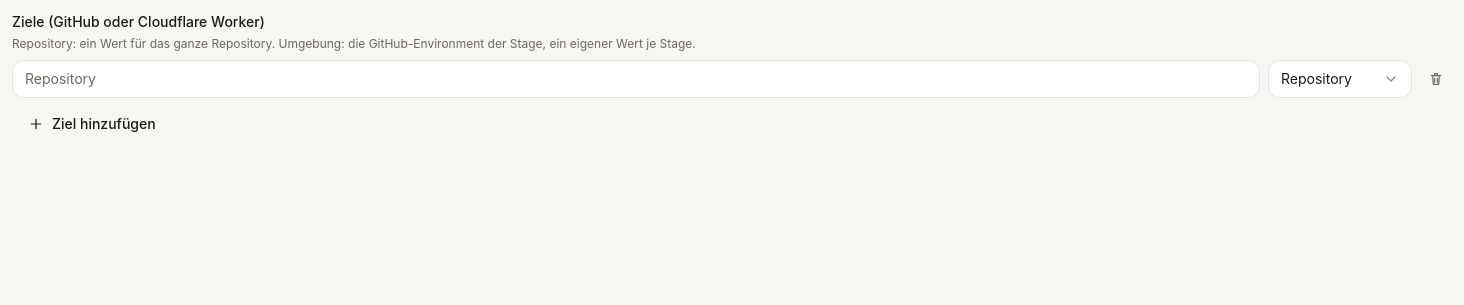
Test: PlacesEditor Worker rows › offers the Worker scope when allowed, with the mixed legend and hint
Check: the text "Ziele (GitHub oder Cloudflare Worker)" is shown, box [12, 12, 265, 32]
Click the dropdown named "Bereich, Ziel 1" at coordinates (1340, 79), box [1268, 60, 1412, 98]
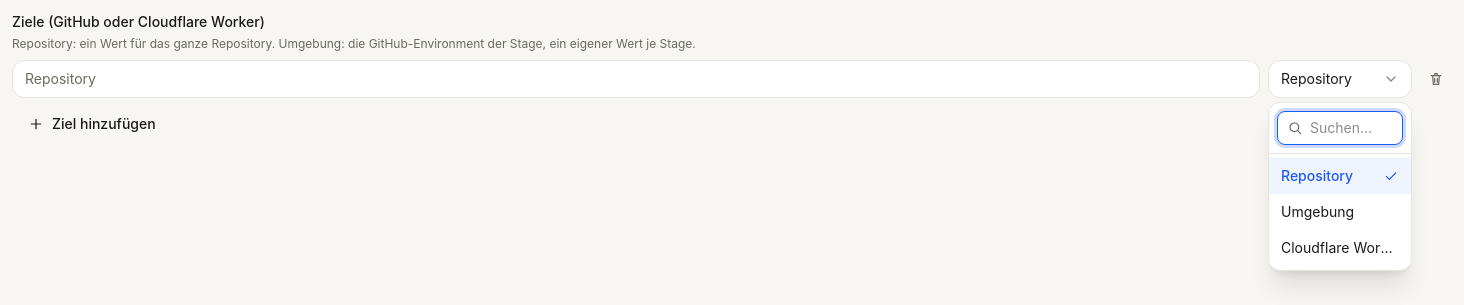
Click the option "Cloudflare Worker" at coordinates (1341, 248), box [1281, 239, 1401, 256]
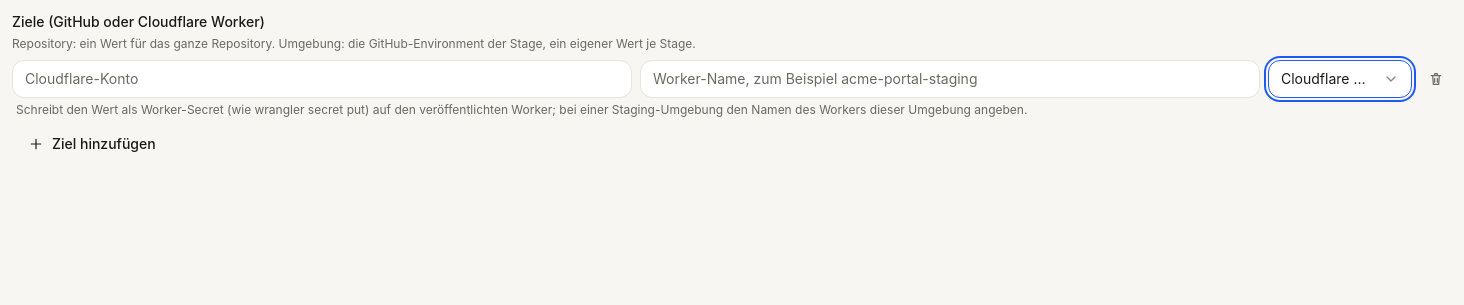
Check: the text "Schreibt den Wert als Worker-Secret" is shown, box [16, 102, 1027, 117]
Check: the field named "Worker-Name, Ziel 1" is shown, box [640, 60, 1260, 98]
